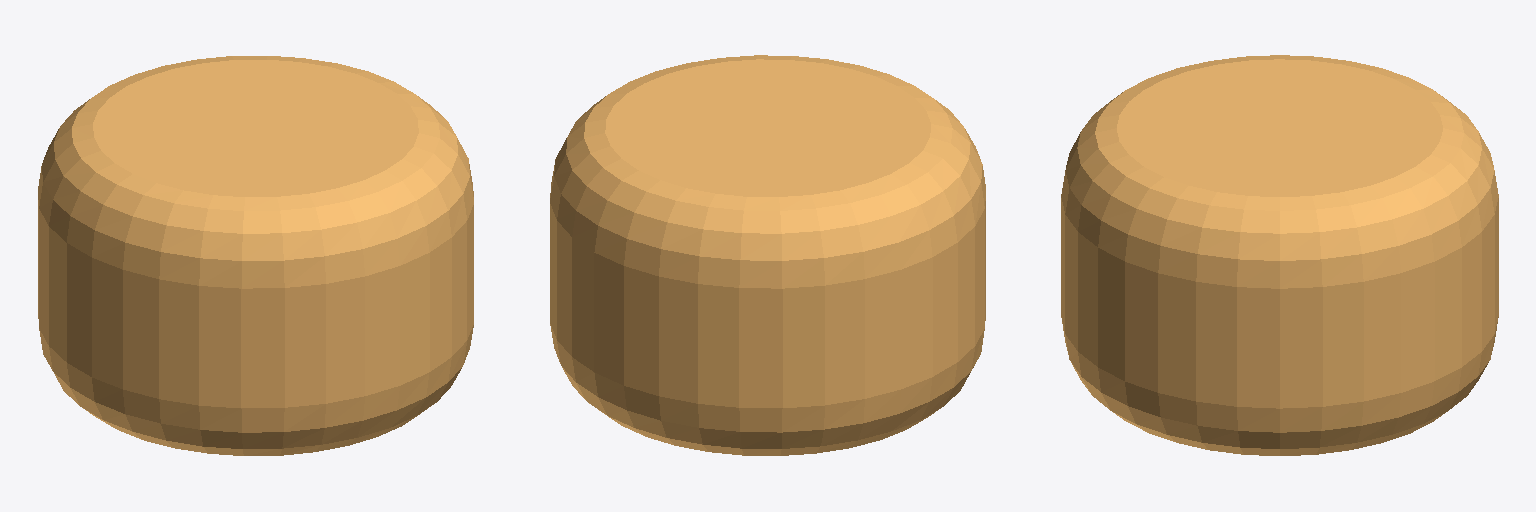
The picture shows the model from 3 angles: view 1: azimuth 30°, elevation 25°; view 2: azimuth 150°, elevation 25°; view 3: azimuth 270°, elevation 25°; orthographic projection.
Parts seen in each view (by area): view 1: Cylinder; view 2: Cylinder; view 3: Cylinder.
Part boxes in pixels (bbox=[...]): Cylinder: bbox=[38, 56, 473, 455]; Cylinder: bbox=[550, 55, 985, 455]; Cylinder: bbox=[1061, 55, 1498, 455].
Bounding box in the file's own units: 0.0735 × 0.0473 × 0.0735.
1 materials, 1 textured.